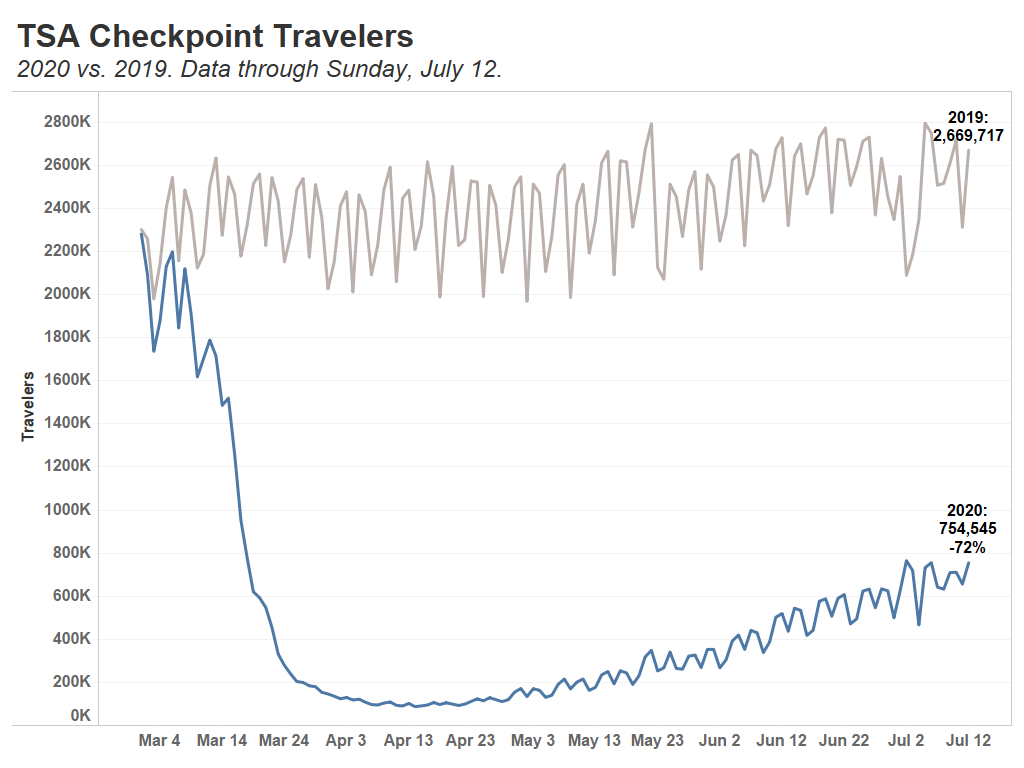

The dashboard page shown, as its layout file describes it:
{"tool":"tableau","page":{"name":"TSA Travelers","canvas":[1024,768],"ordinal":3},"visuals":[{"type":"worksheet","box":[0,0,1024,768]},{"type":"worksheet","title":"Travelers","mark":"Automatic","rows":["2019","2020"],"cols":["Date"],"box":[8,8,1008,752]}]}

Visuals, with their boxes in screenshot pixels (x1, y1, x2, y2), scaled from the page's 1024x768 canvas onto the 1024x768 screenshot:
worksheet: 0 0 1023 767
"Travelers" worksheet: 8 8 1016 760
